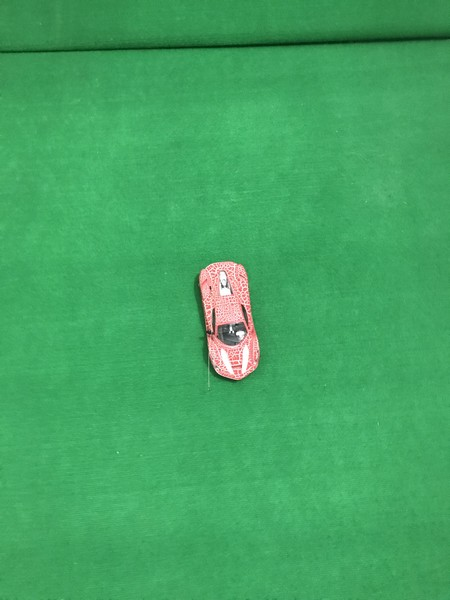RC: (195, 258, 265, 382)
